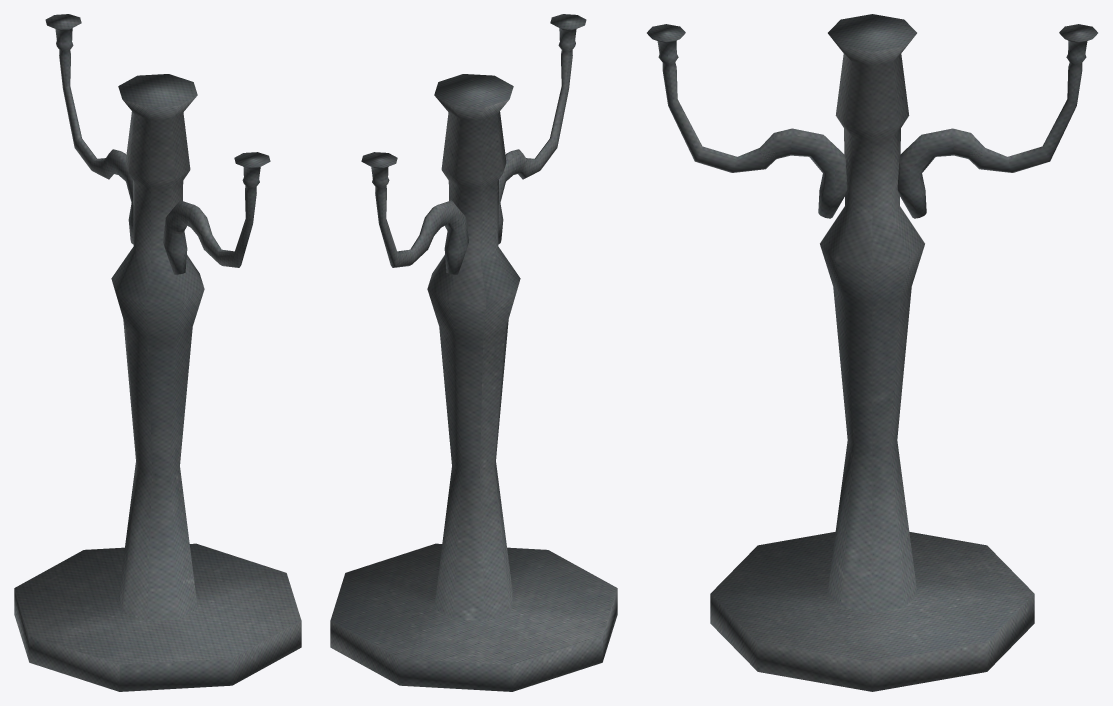
Rendered from Candelabra.glb.
3 views of the same model, side by side, from view 1: azimuth 30°, elevation 25°; view 2: azimuth 150°, elevation 25°; view 3: azimuth 270°, elevation 25° (orthographic). The views are drawn at different scales.
Visible parts, largest first — view 1: Candelabra; view 2: Candelabra; view 3: Candelabra.
Part boxes in pixels (x1,y1,x2,y2): Candelabra: (14,14,301,691); Candelabra: (330,14,617,691); Candelabra: (647,14,1097,691).
Bounding box in the file's own units: 0.0996 × 0.2001 × 0.1388.
Materials: 1 (1 with a texture image).
